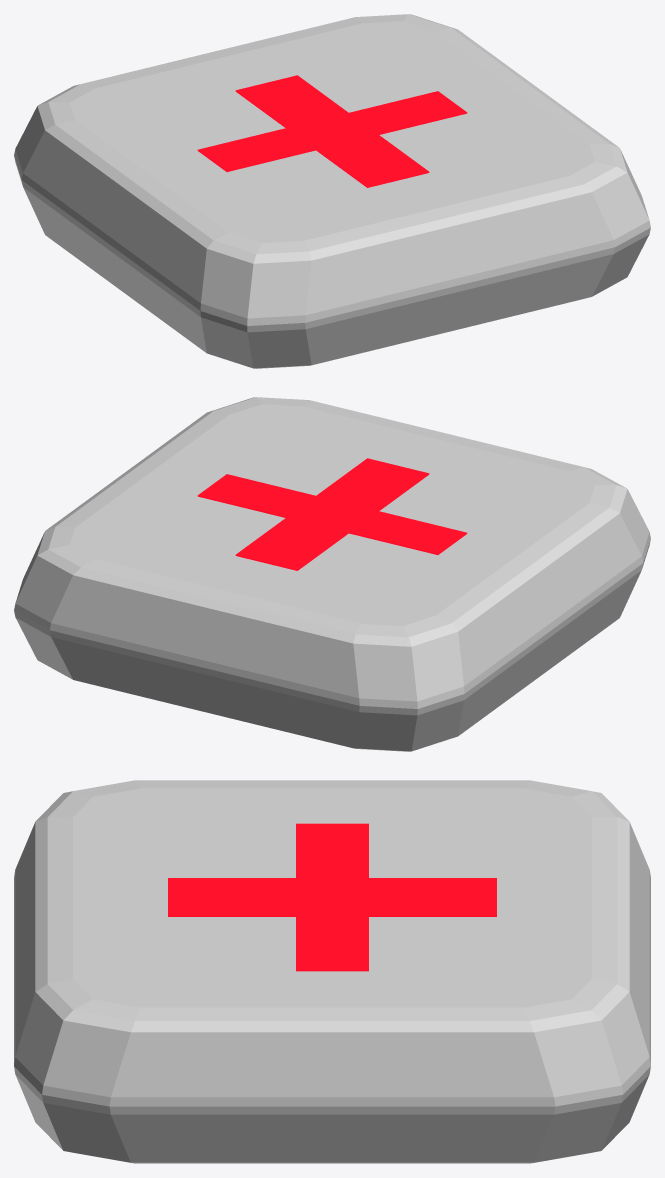
The model's file is Health box.fbx.
3 views of the same model, one above another, from view 1: azimuth 30°, elevation 25°; view 2: azimuth 150°, elevation 25°; view 3: azimuth 270°, elevation 25° (orthographic). The views are drawn at different scales.
Parts seen in each view (by area): view 1: Cube; view 2: Cube; view 3: Cube.
Part boxes in pixels (x1,y1,x2,y2): Cube: (14, 14, 650, 368); Cube: (14, 397, 650, 751); Cube: (14, 780, 650, 1163).
Size of the model in its own units: 217 by 55.97 by 217.
